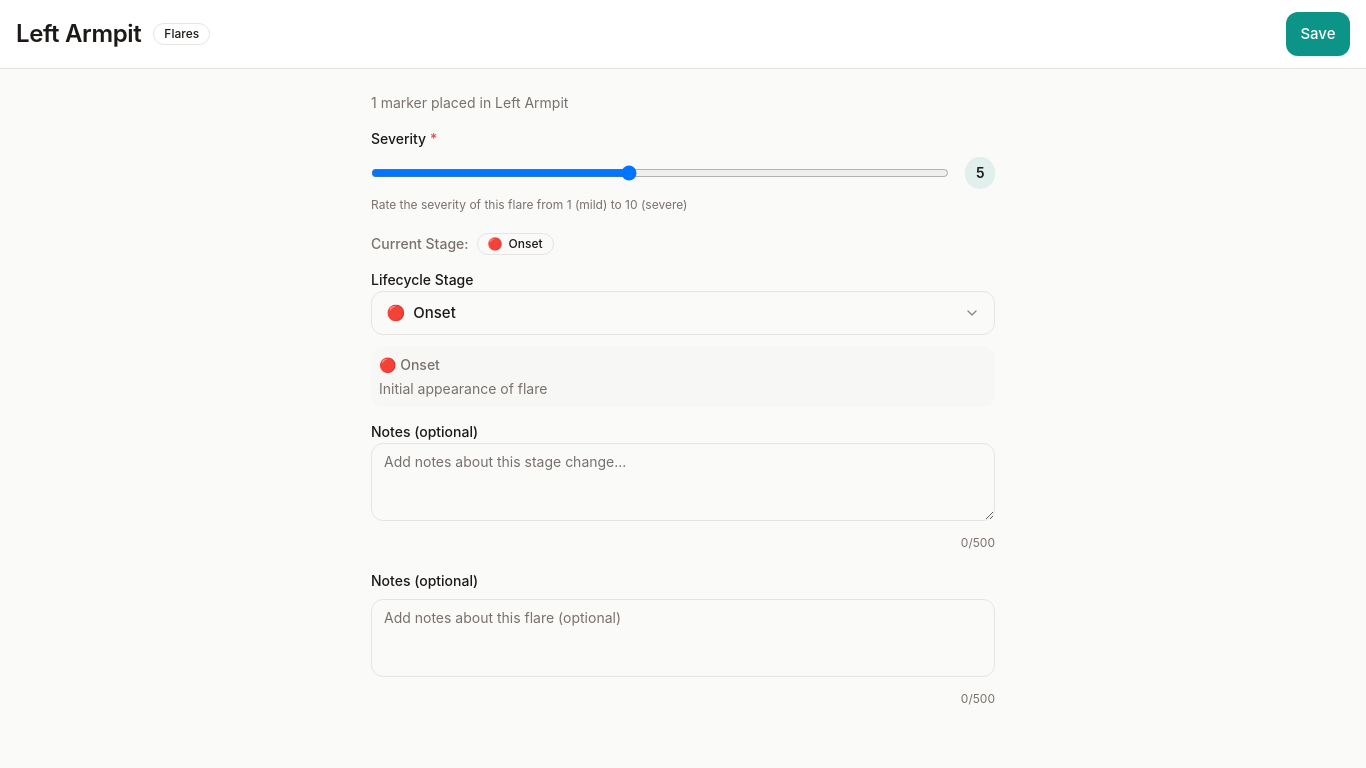
Test: FlareDetailsPage › AC 9.2.5 - Notes textarea with character limit › should update character counter as user types
The image size is (1366, 768).
Type "Test notes" into the 2nd text box with placeholder "Add notes about this flare (optional)".
click(683, 638); type("Test notes")  # box [371,599,995,677]
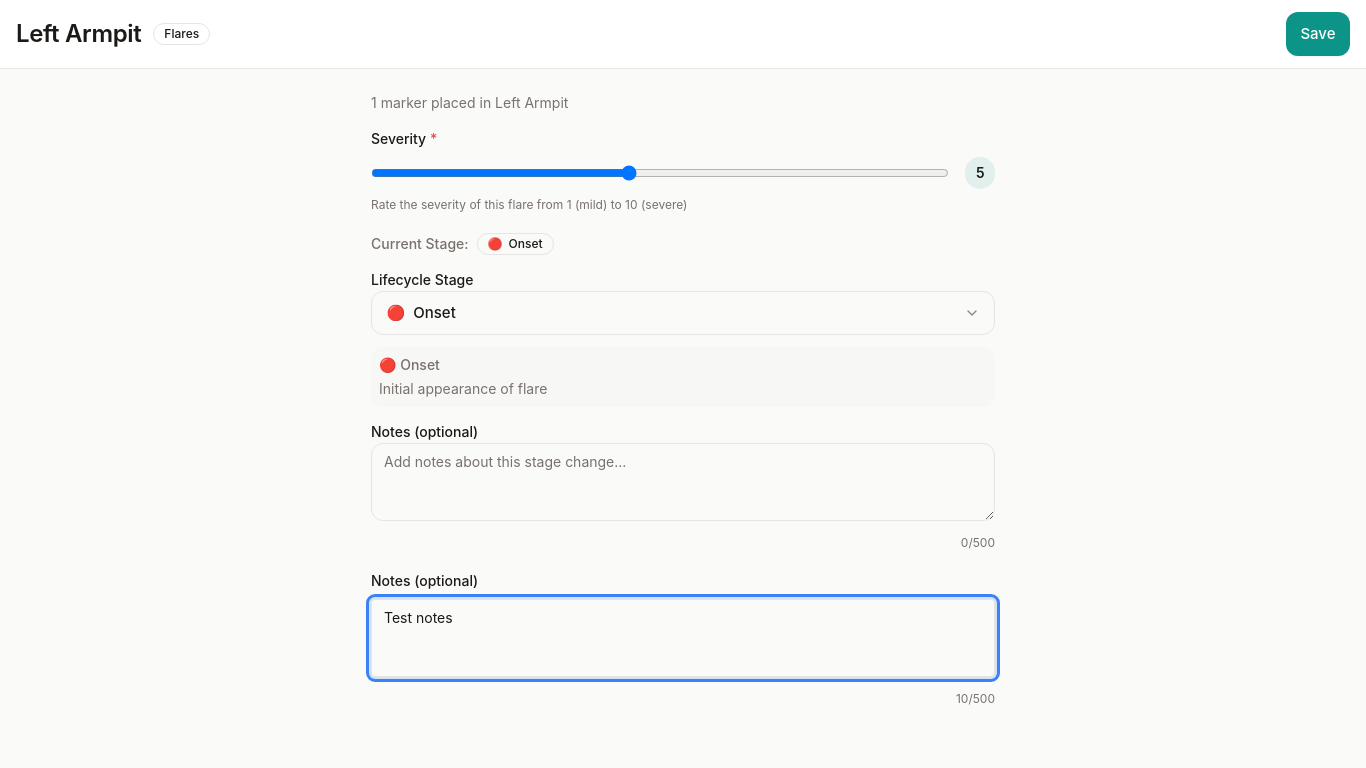
expect the text "10/500" is shown: met, box [956,691,995,706]
